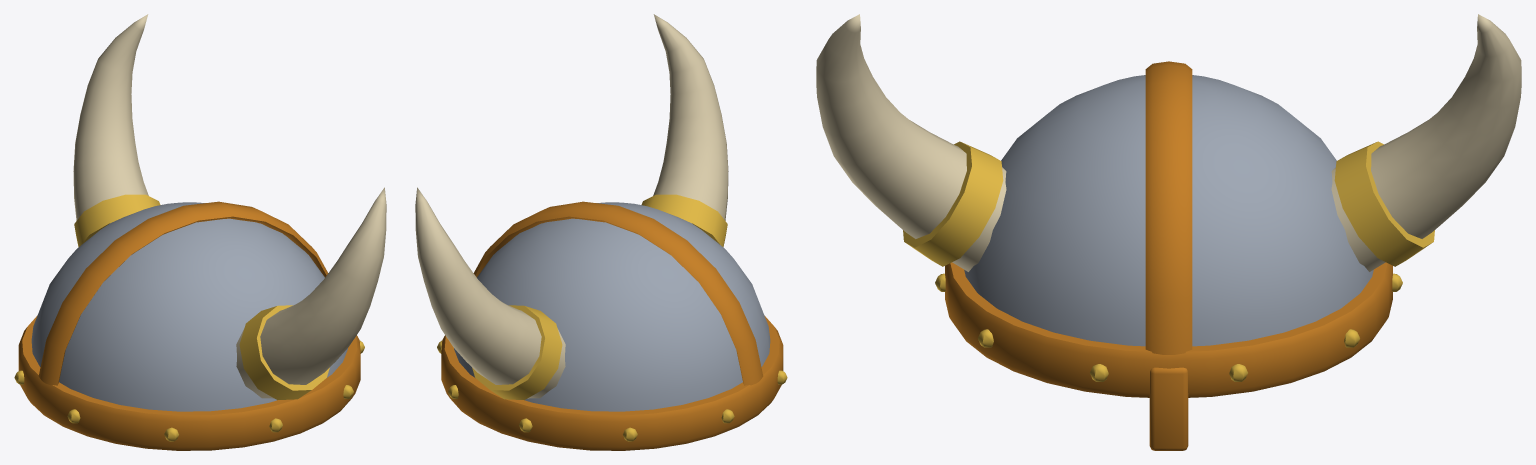
The model's file is hat_viking.glb.
3 views of the same model, side by side, from view 1: azimuth 30°, elevation 25°; view 2: azimuth 150°, elevation 25°; view 3: azimuth 270°, elevation 25° (orthographic). The views are drawn at different scales.
Parts seen in each view (by area): view 1: hat_viking; view 2: hat_viking; view 3: hat_viking.
Boxes of the visible parts, x1,y1,x2,y2 form: hat_viking: [14, 14, 386, 450]; hat_viking: [415, 14, 787, 450]; hat_viking: [816, 14, 1521, 450].
Size of the model in its own units: 0.584 by 0.56 by 0.9127.
